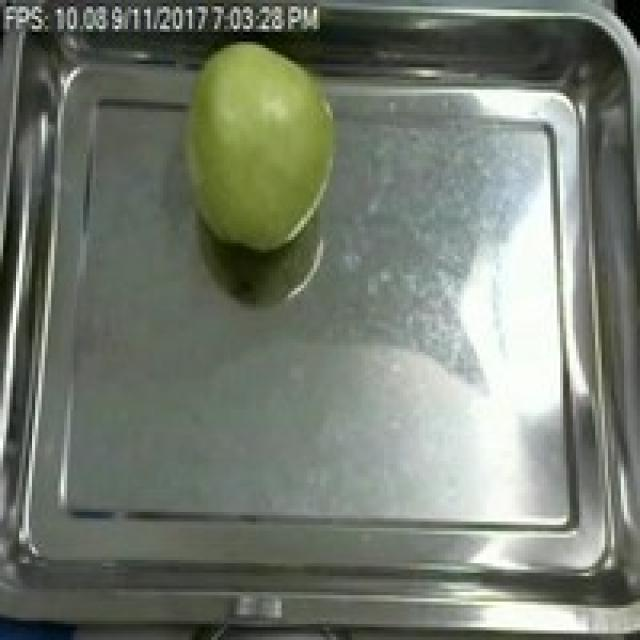Fruit: (166, 35, 352, 259)
